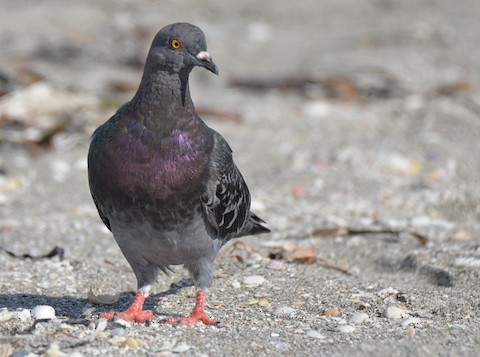pigeon: (86, 18, 275, 328)
